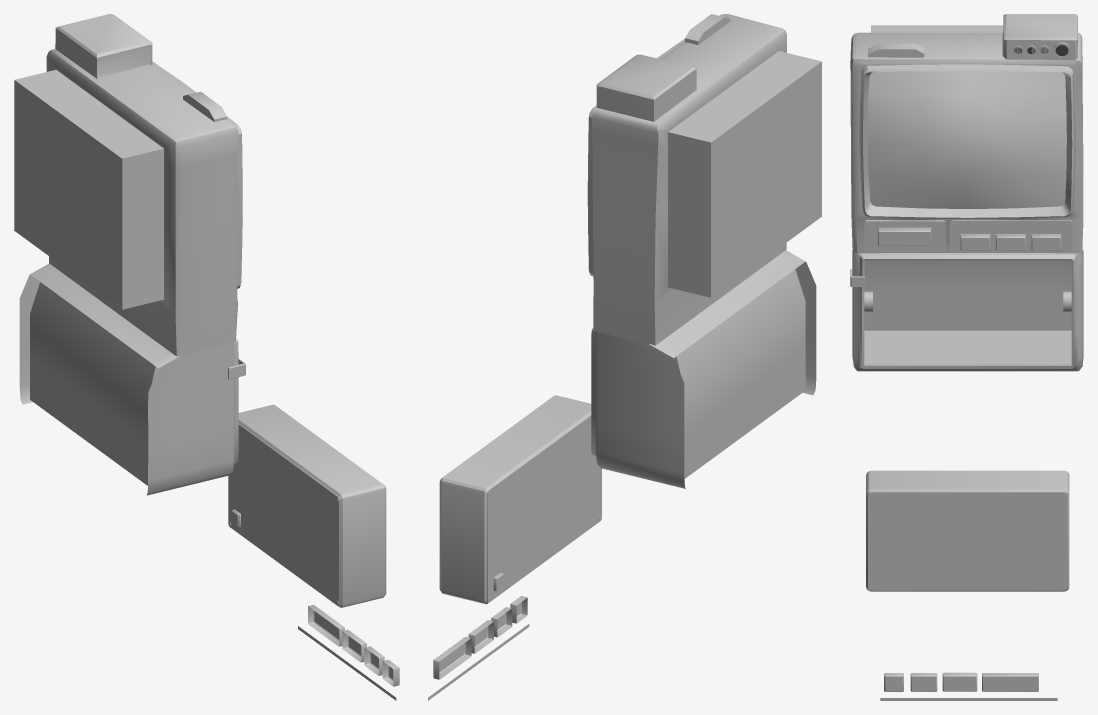
The model's file is CenterConsole_02.fbx.
3 views of the same model, side by side, from view 1: azimuth 30°, elevation 25°; view 2: azimuth 150°, elevation 25°; view 3: azimuth 270°, elevation 25° (orthographic). The views are drawn at different scales.
Parts seen in each view (by area): view 1: centerMonitor_top_v3, centerMonitor_bot_v2, rotateModule_v2; view 2: centerMonitor_top_v3, centerMonitor_bot_v2, rotateModule_v2, ID_button_04; view 3: centerMonitor_bot_v2, centerMonitor_screen, rotateModule_v2, centerMonitor_top_v3, ID_button_04, submitBtn, ID_button_03, ID_connectingLine, zoomBtn_v1.01, zoomBtn_v1.02, zoomBtn_v1.03, ID_button_02.
Part boxes in pixels (x1,y1,x2,y2): centerMonitor_top_v3: (14, 14, 242, 356); centerMonitor_bot_v2: (19, 263, 238, 495); rotateModule_v2: (228, 404, 386, 607); centerMonitor_top_v3: (587, 14, 821, 345); centerMonitor_bot_v2: (591, 250, 816, 488); rotateModule_v2: (439, 395, 601, 604); ID_button_04: (439, 638, 471, 678); centerMonitor_bot_v2: (852, 224, 1083, 371); centerMonitor_screen: (867, 71, 1066, 208); rotateModule_v2: (866, 470, 1069, 591); centerMonitor_top_v3: (850, 14, 1083, 253); ID_button_04: (982, 676, 1038, 691); submitBtn: (878, 229, 930, 245); ID_button_03: (943, 676, 976, 691); ID_connectingLine: (880, 698, 1057, 700); zoomBtn_v1.01: (996, 235, 1025, 250); zoomBtn_v1.02: (960, 235, 989, 250); zoomBtn_v1.03: (1031, 235, 1060, 250); ID_button_02: (911, 676, 936, 691).
Size of the model in its own units: 4.99 by 10.89 by 3.93.
